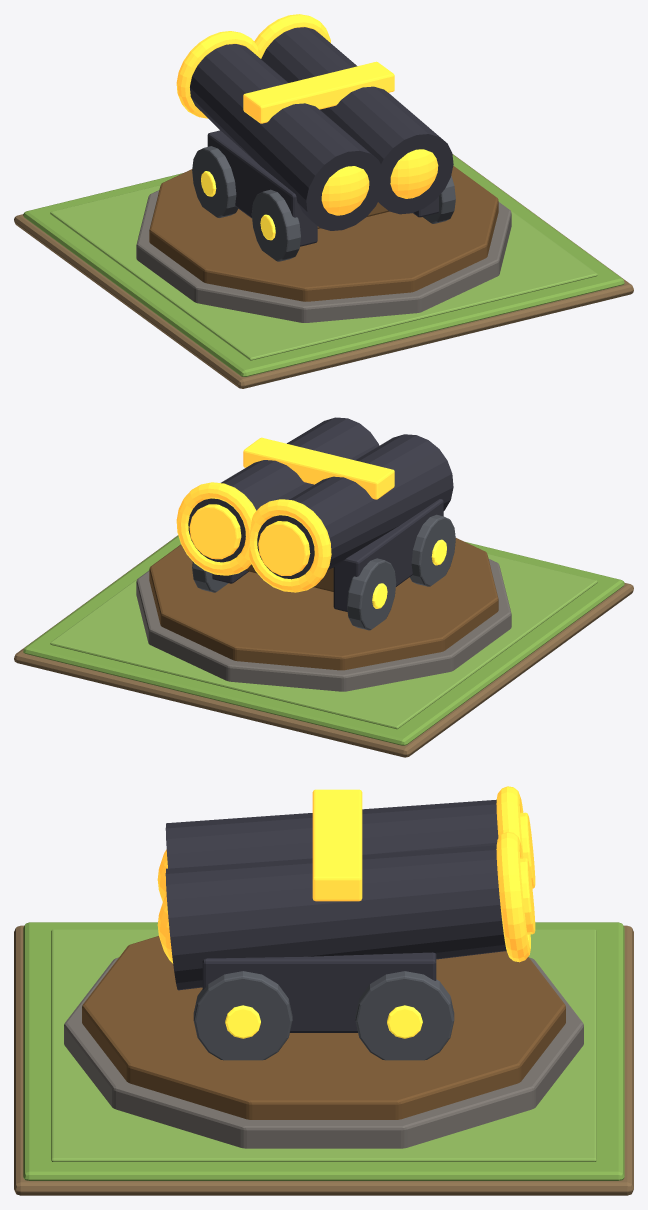
Rendered from double_cannon_lv9.glb.
The picture shows the model from 3 angles, top to bottom: view 1: azimuth 30°, elevation 25°; view 2: azimuth 150°, elevation 25°; view 3: azimuth 270°, elevation 25°; orthographic projection. The views are drawn at different scales.
Parts seen in each view (by area): view 1: TurntableWood, Base_Inner, TwinBarrel_-1, Base_Grass, TwinBarrel_1, TurntableStone, Base_Dirt, TwinYokeStrap, DC_Cheek_-1, DC_Wheel_-1_-1, DC_Wheel_-1_1, TwinMuzzleLip_-1 (+4 smaller); view 2: TurntableWood, Base_Inner, Base_Grass, TwinBarrel_-1, TurntableStone, Base_Dirt, TwinBarrel_1, TwinYokeStrap, DC_Cheek_-1, TwinMuzzleLip_-1, TwinMuzzleLip_1, DC_Wheel_-1_1 (+4 smaller); view 3: TurntableWood, Base_Inner, TwinBarrel_1, Base_Grass, TurntableStone, Base_Dirt, TwinBarrel_-1, DC_Cheek_1, DC_Wheel_1_1, DC_Wheel_1_-1, TwinYokeStrap, TwinMuzzleLip_1 (+6 smaller).
Part boxes in pixels (<box>): TurntableWood: <box>149,166,498,301</box>; Base_Inner: <box>50,185,597,360</box>; TwinBarrel_-1: <box>190,44,383,230</box>; Base_Grass: <box>23,154,624,376</box>; TwinBarrel_1: <box>261,27,453,214</box>; TurntableStone: <box>136,190,511,322</box>; Base_Dirt: <box>14,154,633,388</box>; TwinYokeStrap: <box>243,61,394,123</box>; DC_Cheek_-1: <box>207,130,317,246</box>; DC_Wheel_-1_-1: <box>251,189,300,261</box>; DC_Wheel_-1_1: <box>192,146,238,217</box>; TwinMuzzleLip_-1: <box>176,31,258,118</box>; TurntableWood: <box>149,538,498,670</box>; Base_Inner: <box>50,554,597,729</box>; Base_Grass: <box>23,535,624,745</box>; TwinBarrel_-1: <box>257,434,453,579</box>; TurntableStone: <box>136,559,511,691</box>; Base_Dirt: <box>14,535,633,757</box>; TwinBarrel_1: <box>188,417,379,562</box>; TwinYokeStrap: <box>243,437,394,499</box>; DC_Cheek_-1: <box>333,499,443,611</box>; TwinMuzzleLip_-1: <box>245,499,331,592</box>; TwinMuzzleLip_1: <box>176,482,257,575</box>; DC_Wheel_-1_1: <box>347,558,396,630</box>; TurntableWood: <box>82,936,565,1119</box>; Base_Inner: <box>51,929,596,1161</box>; TwinBarrel_1: <box>165,845,506,990</box>; Base_Grass: <box>23,922,624,1180</box>; TurntableStone: <box>64,957,583,1148</box>; Base_Dirt: <box>14,925,633,1195</box>; TwinBarrel_-1: <box>165,799,498,868</box>; DC_Cheek_1: <box>202,952,436,1032</box>; DC_Wheel_1_1: <box>355,971,454,1060</box>; DC_Wheel_1_-1: <box>193,971,292,1060</box>; TwinYokeStrap: <box>312,789,362,901</box>; TwinMuzzleLip_1: <box>496,832,530,962</box>.
Bounding box in the file's own units: 2.76 × 1.24 × 2.76.
